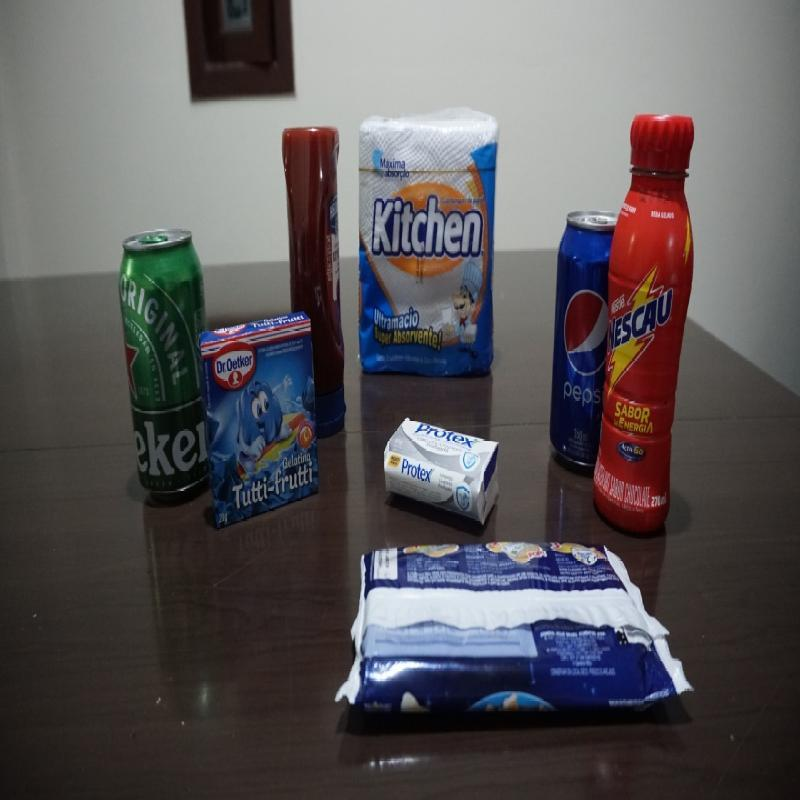Beer can: (117, 226, 209, 500)
Chocolate Milk: (590, 113, 695, 536)
Gelatine: (199, 310, 320, 528)
Ketchup: (281, 123, 346, 436)
Napkin: (354, 107, 500, 382)
Popcorn: (334, 538, 692, 718)
Soap: (384, 417, 499, 528)
Soda can: (549, 209, 610, 469)
